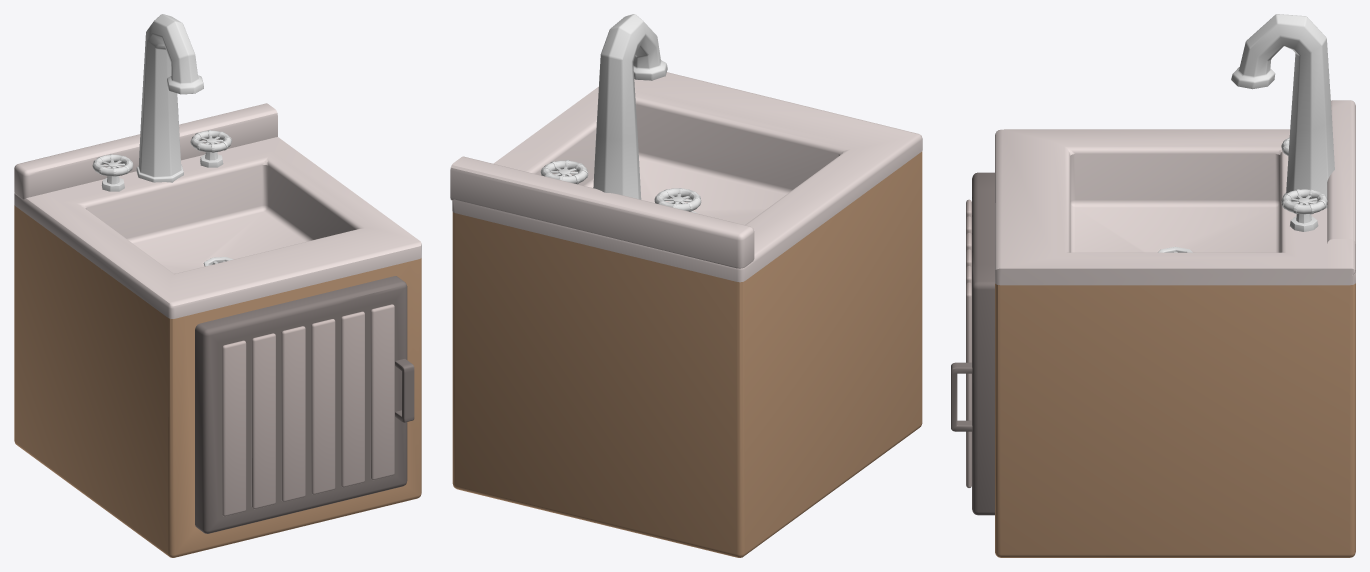
File: musluk.fbx
3 renders of one model, left to right at view 1: azimuth 30°, elevation 25°; view 2: azimuth 150°, elevation 25°; view 3: azimuth 270°, elevation 25°, orthographic. The views are drawn at different scales.
Visible parts, largest first — view 1: Cube.154, Cube.045, Cube.158, Cube.016, Cube.159, Cube.155, Cube.153, Cube.156; view 2: Cube.154, Cube.045, Cube.159, Cube.155, Cube.153; view 3: Cube.154, Cube.045, Cube.159, Cube.016, Cube.158, Cube.155, Cube.156.
Part boxes in pixels (left/top/right/bottom): Cube.154: left=14, top=205, right=421, bottom=557; Cube.045: left=14, top=103, right=421, bottom=318; Cube.158: left=222, top=304, right=394, bottom=516; Cube.016: left=195, top=276, right=407, bottom=533; Cube.159: left=136, top=14, right=203, bottom=182; Cube.155: left=190, top=130, right=231, bottom=167; Cube.153: left=92, top=154, right=133, bottom=191; Cube.156: left=395, top=359, right=414, bottom=422; Cube.154: left=452, top=151, right=922, bottom=557; Cube.045: left=450, top=72, right=922, bottom=282; Cube.159: left=593, top=14, right=667, bottom=199; Cube.155: left=540, top=160, right=588, bottom=184; Cube.153: left=654, top=188, right=701, bottom=211; Cube.154: left=995, top=283, right=1355, bottom=557; Cube.045: left=995, top=100, right=1355, bottom=285; Cube.159: left=1231, top=14, right=1334, bottom=208; Cube.016: left=972, top=172, right=994, bottom=515; Cube.158: left=966, top=199, right=971, bottom=487; Cube.155: left=1281, top=189, right=1327, bottom=231; Cube.156: left=951, top=362, right=972, bottom=431.
Bounding box in the file's own units: 323 × 510 × 393.
